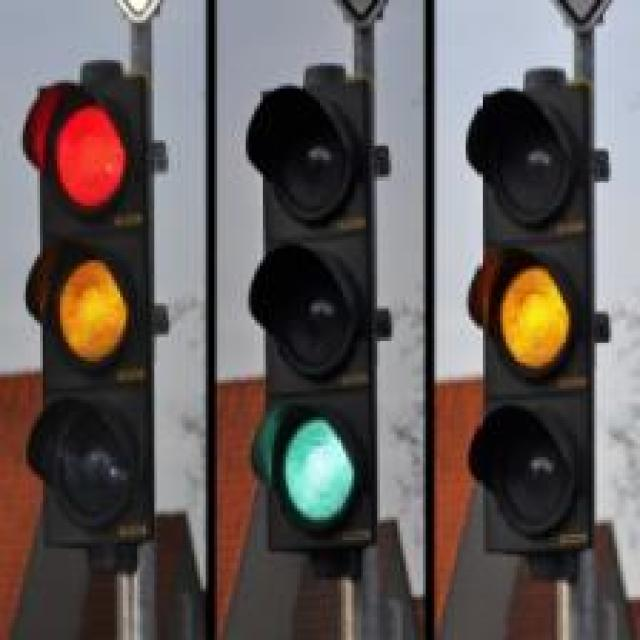green-lights: (276, 380, 367, 531)
red-lights: (36, 80, 144, 231)
yellow-lights: (473, 244, 590, 387), (42, 239, 138, 370)
